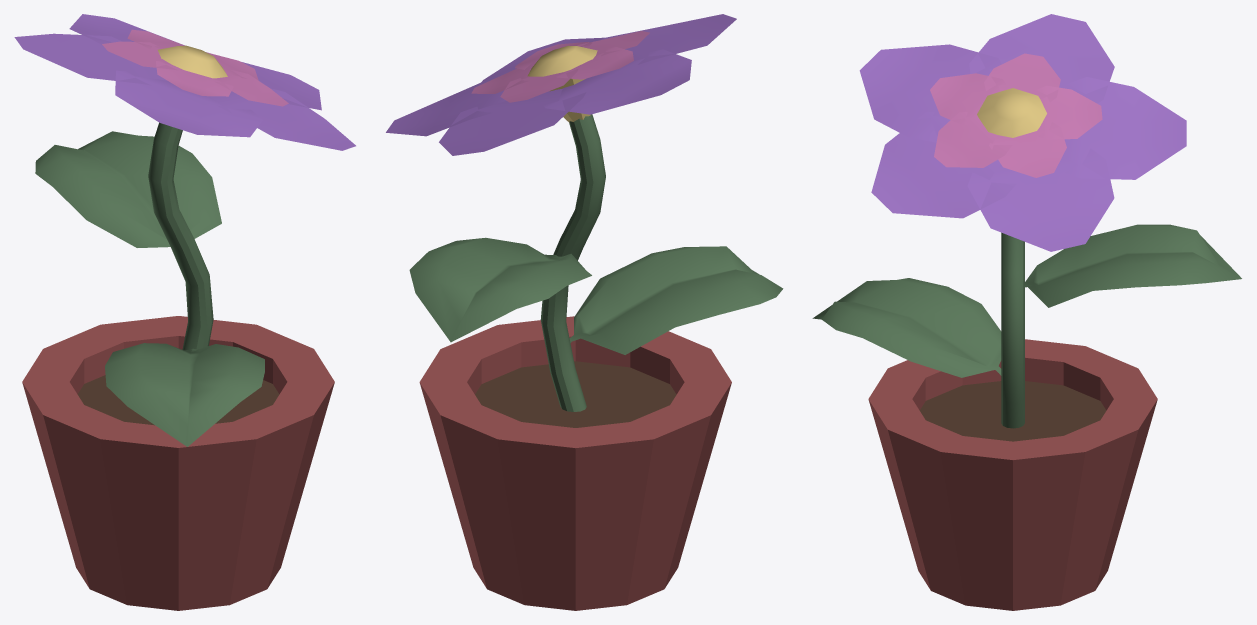
File: maiinflower.fbx
The picture shows the model from 3 angles, left to right: view 1: azimuth 30°, elevation 25°; view 2: azimuth 150°, elevation 25°; view 3: azimuth 270°, elevation 25°; orthographic projection. The views are drawn at different scales.
Visible parts, largest first — view 1: curve2; view 2: curve2; view 3: curve2.
Part boxes in pixels (<box>): curve2: <box>14,14,355,610</box>; curve2: <box>386,14,783,610</box>; curve2: <box>812,14,1241,610</box>.
Bounding box in the file's own units: 0.8783 × 1.52 × 1.19.
